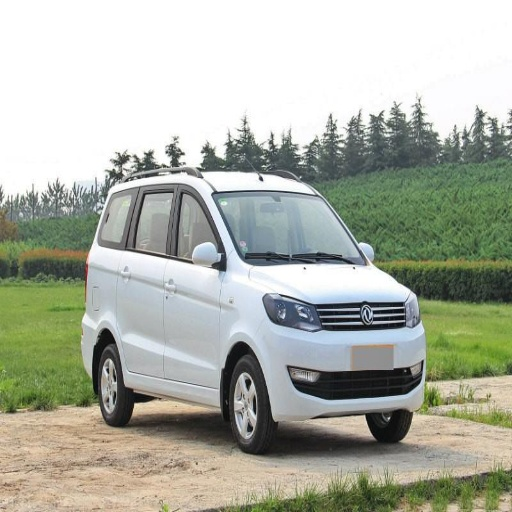front_bumper: (258, 295, 427, 421)
front_right_door: (164, 183, 225, 387)
front_right_light: (263, 293, 323, 330)
hood: (250, 264, 405, 304)
